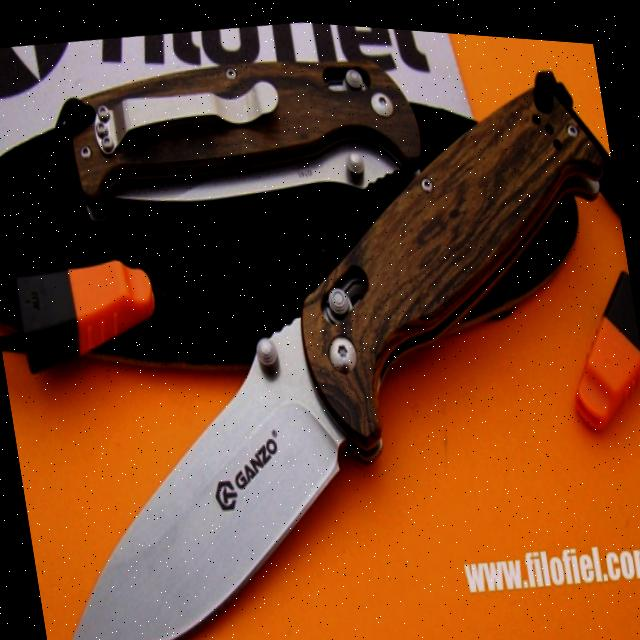knife: (0, 38, 640, 640), (59, 17, 431, 248)
